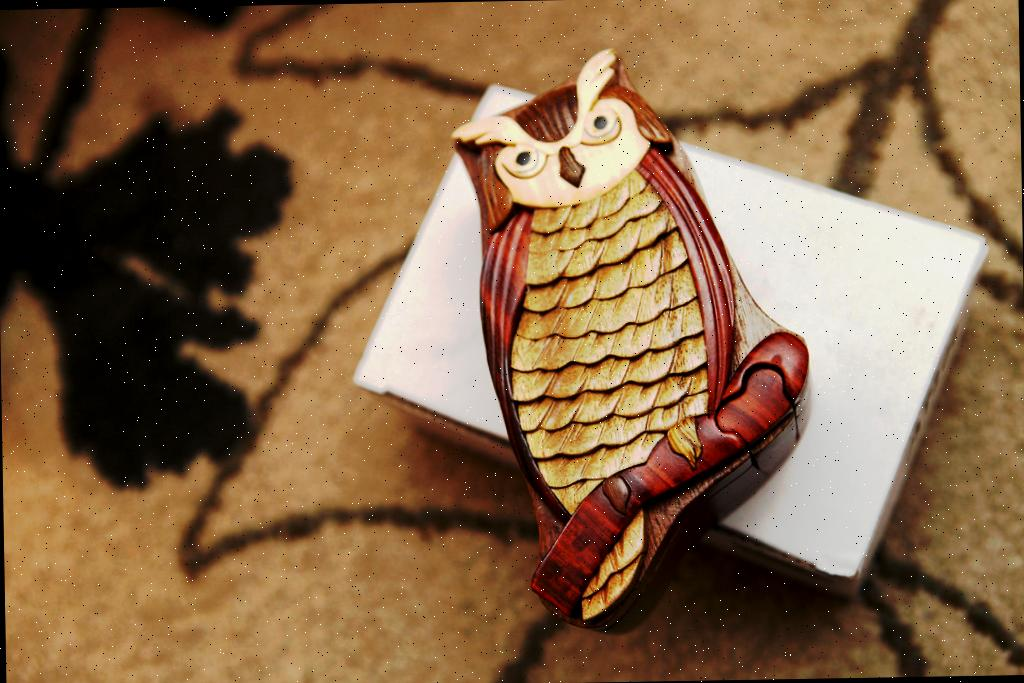Owl: (443, 45, 820, 638)
